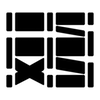

Layout of this report page (visuals, bound fields, positions):
{"tool":"tableau","page":{"name":"Dashboard 1","canvas":[1024,768],"ordinal":0},"visuals":[{"type":"worksheet","title":"Customer/Sub ","mark":"Automatic","rows":["Number of Records"],"cols":["Month"],"box":[8,8,488,752]},{"type":"worksheet","title":"Growth Rate","mark":"Automatic","rows":["Number of Records"],"cols":["Month"],"box":[496,8,488,752]},{"type":"legend","title":"Customer/Sub ","param":"[federated.0od1mke0am9w4n180o4o11kay19s].[none:User Type:nk]","box":[984,8,32,66]}]}

Visuals, with their boxes on the page's 1024x768 design canvas (x1, y1, x2, y2). These are canvas units, not pixel positions in the 100x100 screenshot, which may show the page scaled, cropped or inside an application window:
"Customer/Sub " worksheet: select_region(8, 8, 496, 760)
"Growth Rate" worksheet: select_region(496, 8, 984, 760)
"Customer/Sub " legend: select_region(984, 8, 1016, 74)
